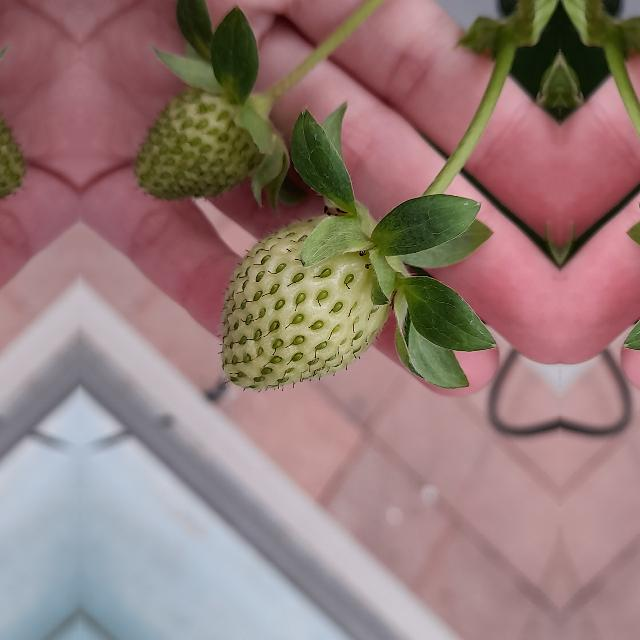Health_25: (220, 214, 388, 390), (132, 88, 266, 204), (0, 87, 27, 204)
